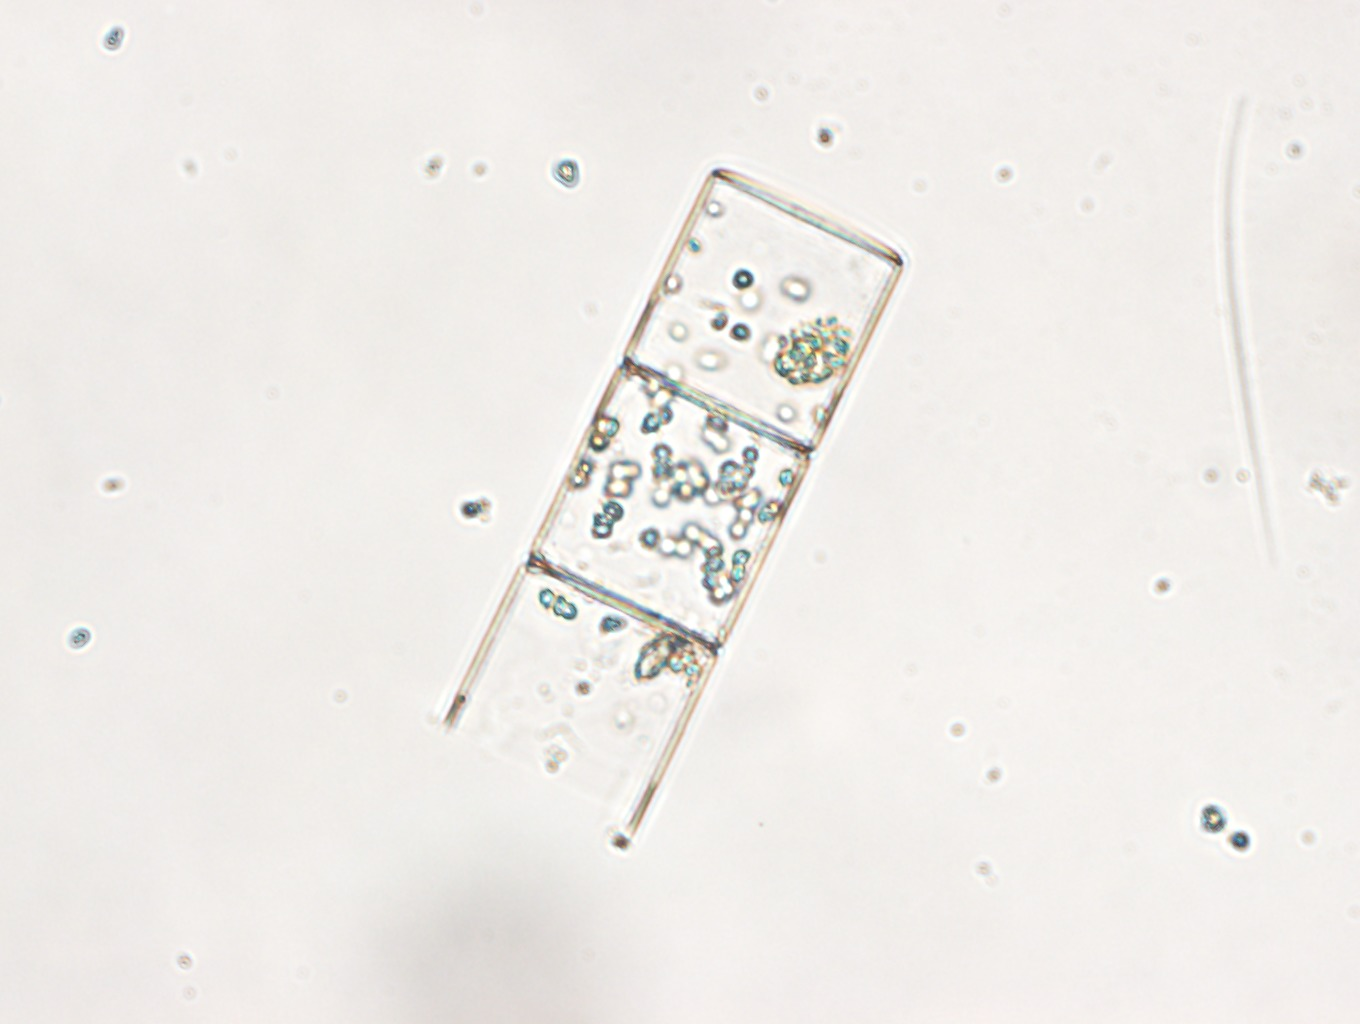guinardia flaccida: (447, 166, 904, 835)
